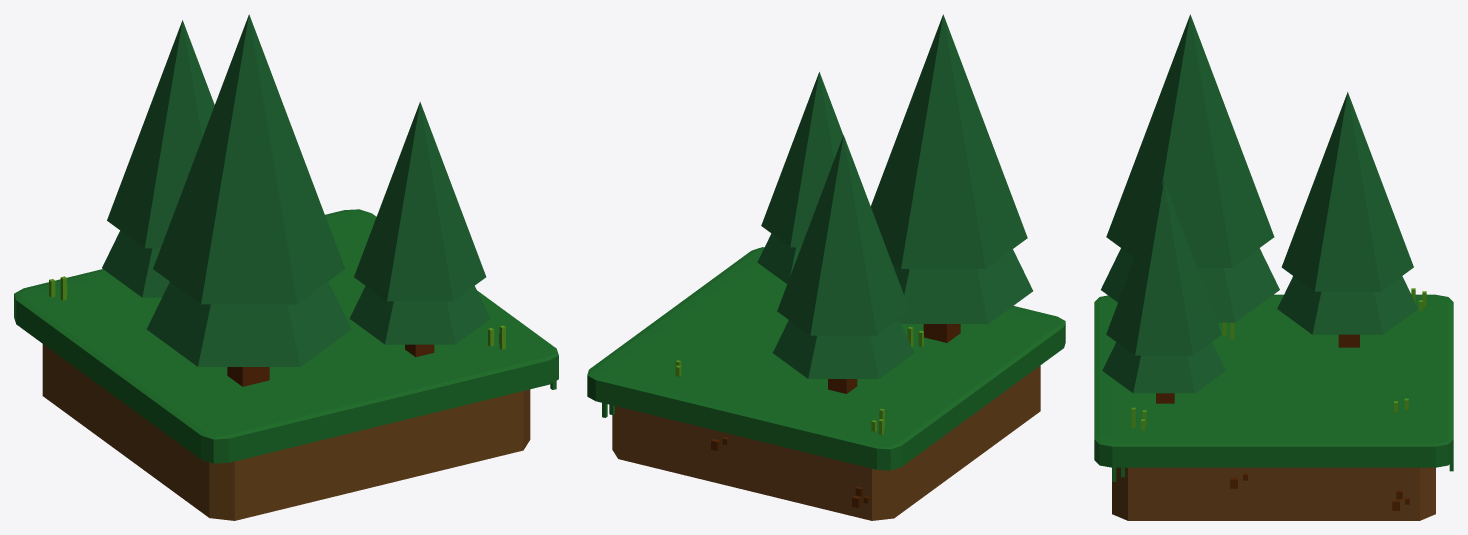
Rendered from Tilemap-foret_tile-project_happiness.fbx.
3 renders of one model, left to right at view 1: azimuth 30°, elevation 25°; view 2: azimuth 150°, elevation 25°; view 3: azimuth 270°, elevation 25°, orthographic. The views are drawn at different scales.
Parts seen in each view (by area): view 1: Tile 1.005; view 2: Tile 1.005; view 3: Tile 1.005.
Boxes of the visible parts, x1,y1,x2,y2 form: Tile 1.005: (14,14,558,520); Tile 1.005: (587,14,1065,520); Tile 1.005: (1094,14,1453,520).
Size of the model in its own units: 500 by 623 by 500.
